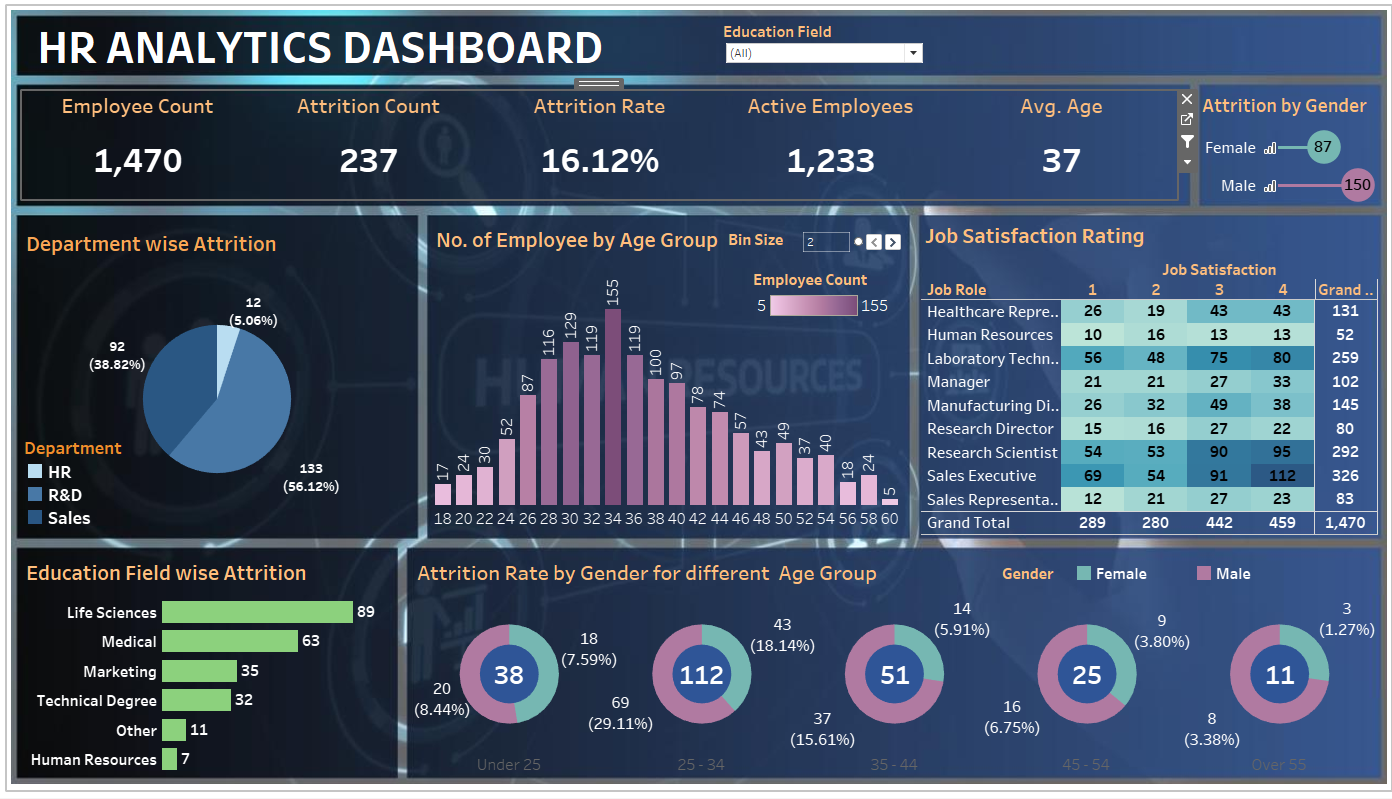

The dashboard page shown, as its layout file describes it:
{"tool":"tableau","page":{"name":"HR ANALYTICS DASHBOARD","canvas":[1400,800],"ordinal":0},"visuals":[{"type":"image","param":"C:/Users/mohdn/Downloads/HR background.pptx.jpg","box":[8,8,1384,784]},{"type":"filter","title":"Education Field wise Attrition","param":"[federated.1s76w6d0zz6tt70zp8j4k0k0ecpn].[none:Education Field:nk]","box":[681,23,203,43]},{"type":"text","box":[35,27,617,41]},{"type":"worksheet","title":"Attrition by Gender","mark":"Automatic","rows":["Gender"],"cols":["Calculation_862720811930456064","Calculation_862720811930456064"],"box":[1199,90,181,116]},{"type":"worksheet","title":"KPI","mark":"Automatic","box":[23,93,1155,108]},{"type":"worksheet","title":"Job Satisfaction Rating","mark":"Square","rows":["Job Role"],"cols":["Job Satisfaction"],"box":[922,219,458,318]},{"type":"worksheet","title":"No. of Employee by Age Group","mark":"Automatic","rows":["Employee Count"],"cols":["Age (bin)"],"box":[433,223,469,309]},{"type":"worksheet","title":"Department wise Attrition","mark":"Pie","box":[23,227,390,305]},{"type":"parameter","param":"[Parameters].[Parameter 1]","box":[729,231,176,26]},{"type":"legend","title":"No. of Employee by Age Group","param":"[federated.1s76w6d0zz6tt70zp8j4k0k0ecpn].[sum:Employee Count:qk]","box":[754,271,140,48]},{"type":"legend","title":"Department wise Attrition","param":"[federated.1s76w6d0zz6tt70zp8j4k0k0ecpn].[none:Department:nk]","box":[25,437,124,99]},{"type":"worksheet","title":"Education Field wise Attrition","mark":"Automatic","rows":["Education Field"],"cols":["Calculation_862720811930456064"],"box":[23,556,368,220]},{"type":"worksheet","title":"Attrition Rate by Gender for different  Age Group","mark":"Pie","rows":["Calculation_862720812661665796","Calculation_862720812661665796"],"cols":["CF_age band"],"box":[414,556,963,222]},{"type":"legend","title":"Attrition Rate by Gender for different  Age Group","param":"[federated.1s76w6d0zz6tt70zp8j4k0k0ecpn].[none:Gender:nk]","box":[1003,565,329,35]}]}

Visuals, with their boxes in screenshot pixels (x1, y1, x2, y2), scaled from the page's 1400x800 canvas onto the 1392x799 screenshot:
image: {"x1": 8, "y1": 8, "x2": 1384, "y2": 791}
"Education Field wise Attrition" filter: {"x1": 677, "y1": 23, "x2": 879, "y2": 66}
text: {"x1": 35, "y1": 27, "x2": 648, "y2": 68}
"Attrition by Gender" worksheet: {"x1": 1192, "y1": 90, "x2": 1372, "y2": 206}
"KPI" worksheet: {"x1": 23, "y1": 93, "x2": 1171, "y2": 201}
"Job Satisfaction Rating" worksheet (Square marks): {"x1": 917, "y1": 219, "x2": 1372, "y2": 536}
"No. of Employee by Age Group" worksheet: {"x1": 431, "y1": 223, "x2": 897, "y2": 531}
"Department wise Attrition" worksheet (Pie marks): {"x1": 23, "y1": 227, "x2": 411, "y2": 531}
parameter: {"x1": 725, "y1": 231, "x2": 900, "y2": 257}
"No. of Employee by Age Group" legend: {"x1": 750, "y1": 271, "x2": 889, "y2": 319}
"Department wise Attrition" legend: {"x1": 25, "y1": 436, "x2": 148, "y2": 535}
"Education Field wise Attrition" worksheet: {"x1": 23, "y1": 555, "x2": 389, "y2": 775}
"Attrition Rate by Gender for different  Age Group" worksheet (Pie marks): {"x1": 412, "y1": 555, "x2": 1369, "y2": 777}
"Attrition Rate by Gender for different  Age Group" legend: {"x1": 997, "y1": 564, "x2": 1324, "y2": 599}
